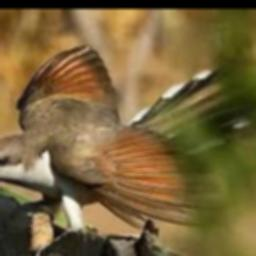Cuckoo: (0, 44, 256, 232)
